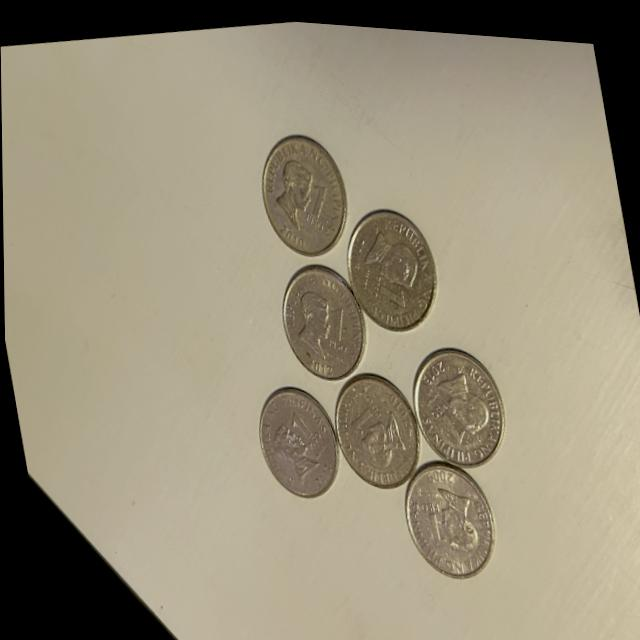1_Old_Front: (293, 174, 341, 233), (342, 383, 386, 439), (427, 381, 464, 445), (363, 256, 412, 303), (284, 399, 324, 451), (319, 295, 353, 349), (417, 487, 449, 544)
